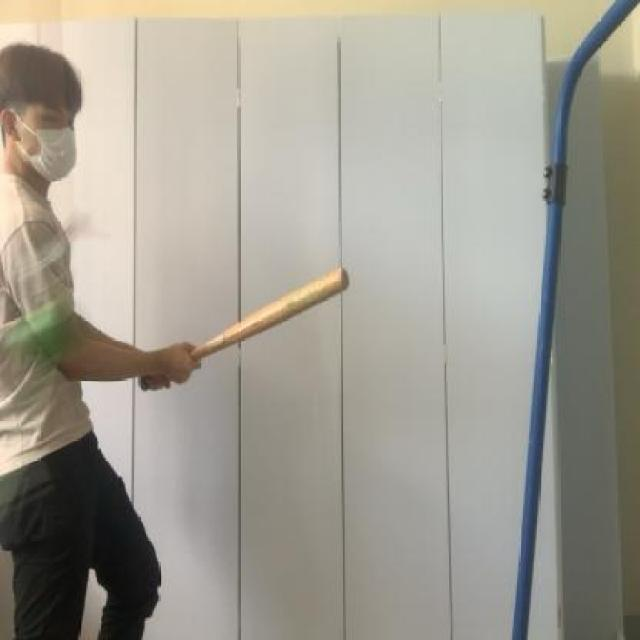baseball: (3, 290, 91, 392)
